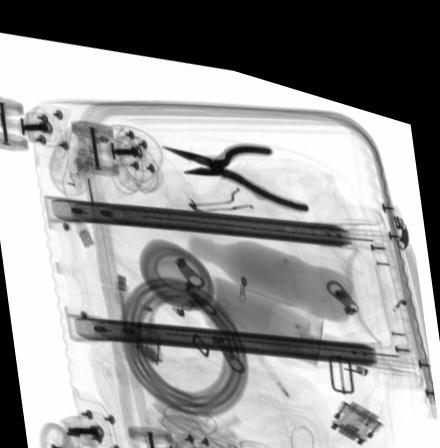Pliers: (162, 129, 309, 193)
